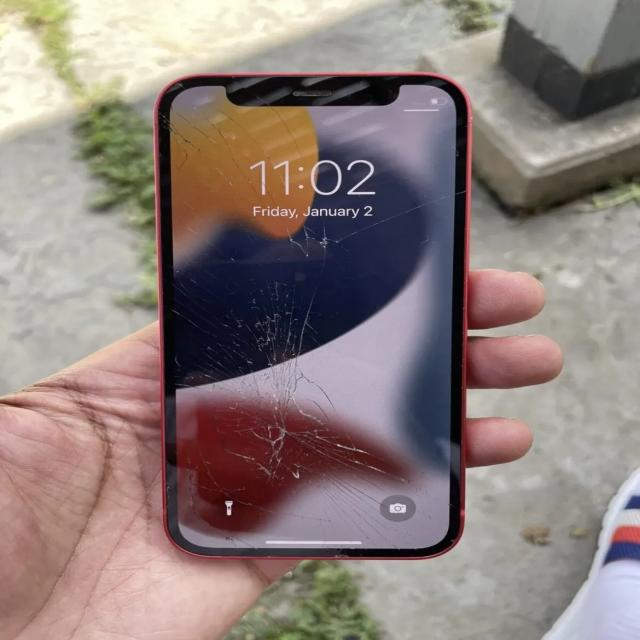Crack: (162, 290, 456, 550), (162, 88, 353, 285)
